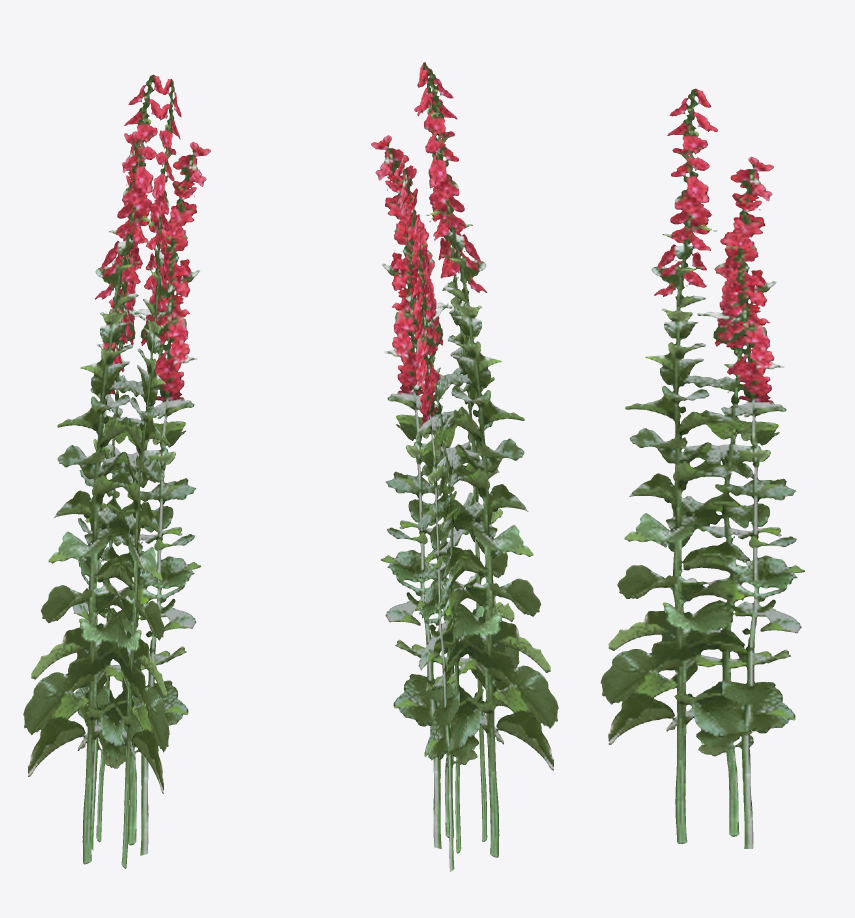
Rendered from SM_FOL_Flower_Tall_01_A.fbx.
3 views of the same model, side by side, from view 1: azimuth 30°, elevation 25°; view 2: azimuth 150°, elevation 25°; view 3: azimuth 270°, elevation 25° (orthographic).
Visible parts, largest first — view 1: SM_FOL_Flower_Tall_01_A; view 2: SM_FOL_Flower_Tall_01_A; view 3: SM_FOL_Flower_Tall_01_A.
Part boxes in pixels (left/top/right/bottom): SM_FOL_Flower_Tall_01_A: left=23, top=74, right=210, bottom=868; SM_FOL_Flower_Tall_01_A: left=371, top=62, right=558, bottom=871; SM_FOL_Flower_Tall_01_A: left=600, top=88, right=804, bottom=848.
Bounding box in the file's own units: 23.57 × 68.87 × 18.68.
Materials: 1 (1 with a texture image).
